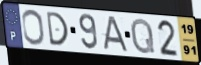2: (156, 18, 180, 58)
9: (78, 13, 99, 51)
A: (101, 16, 130, 54)
D: (45, 11, 70, 48)
O: (21, 8, 46, 47)
Q: (130, 16, 157, 55)
